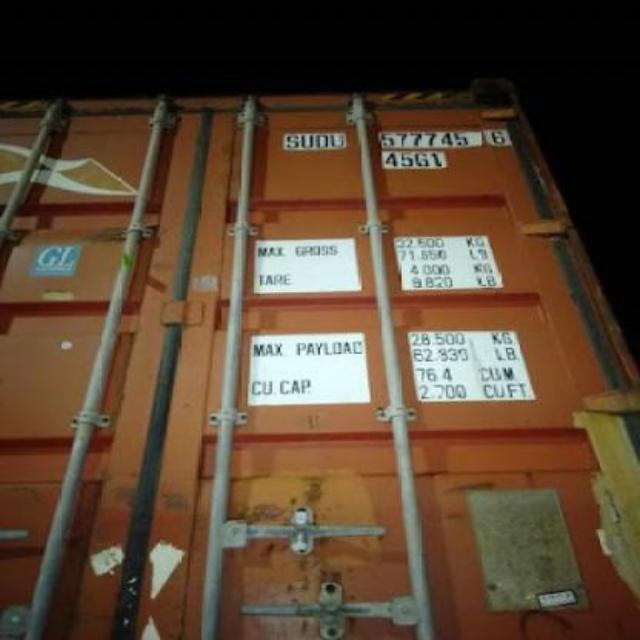4: (442, 132, 456, 146)
5: (454, 132, 470, 146), (381, 132, 394, 146)
6: (490, 132, 506, 144)
7: (410, 132, 426, 148), (396, 130, 408, 148), (426, 132, 438, 150)
D: (316, 133, 329, 151)
S: (284, 132, 300, 148)
U: (300, 134, 314, 150), (331, 134, 344, 148)
